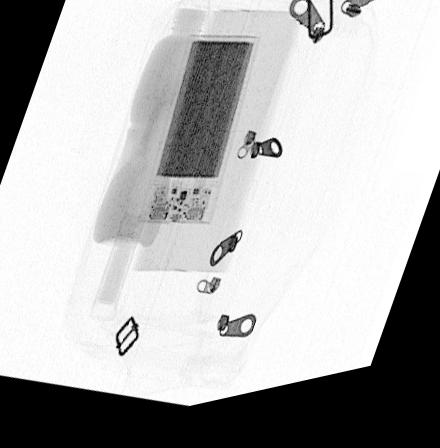Powerbank: (135, 42, 260, 234)
